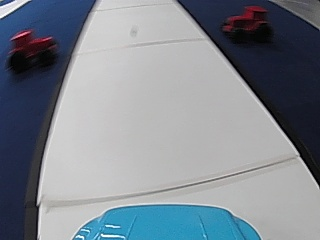tractor: (7, 27, 55, 73), (221, 5, 271, 44)
